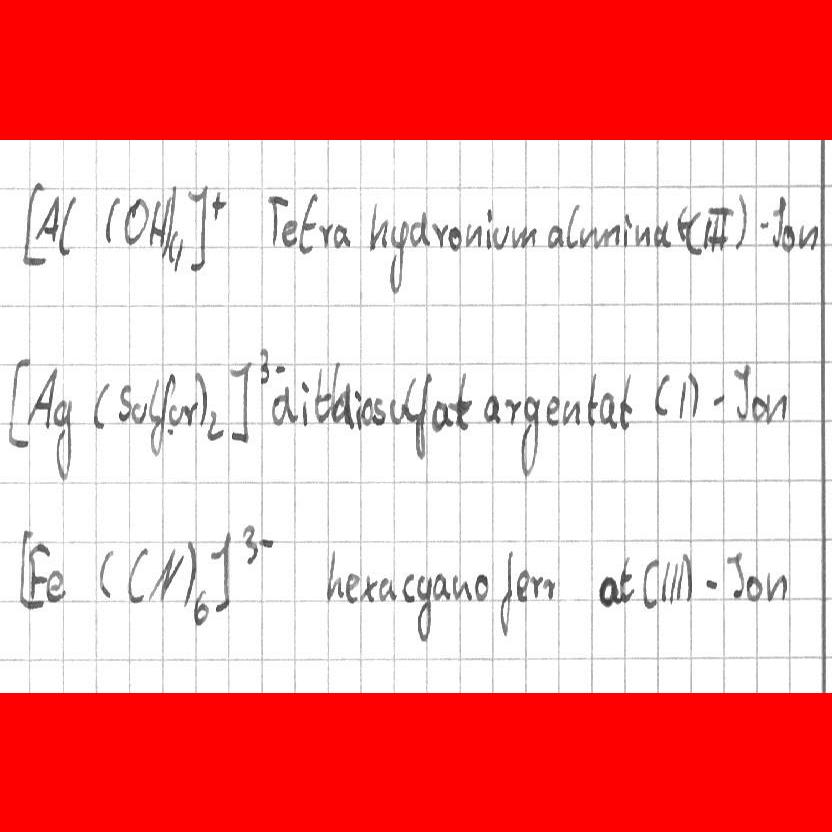Char: (3, 356, 31, 452), (184, 184, 212, 275), (19, 176, 45, 270), (227, 357, 252, 443), (148, 545, 184, 604), (26, 366, 57, 430), (50, 397, 73, 483), (387, 217, 411, 299), (519, 393, 541, 479), (210, 530, 233, 611), (125, 545, 150, 607), (414, 373, 432, 458), (497, 548, 514, 637), (26, 540, 50, 602), (120, 195, 150, 244), (412, 572, 433, 642), (58, 193, 80, 257), (297, 193, 319, 257), (310, 364, 331, 424), (577, 222, 621, 250), (708, 205, 733, 254), (34, 193, 60, 240), (148, 194, 170, 249), (270, 383, 297, 427), (732, 191, 751, 253), (18, 526, 32, 610), (449, 371, 468, 432), (323, 547, 344, 602), (366, 200, 388, 252), (733, 361, 751, 422), (180, 540, 196, 608), (266, 193, 285, 250), (640, 555, 660, 609), (725, 550, 745, 603), (408, 208, 434, 248), (90, 379, 110, 431), (617, 553, 637, 604), (331, 381, 354, 425), (651, 371, 671, 420), (194, 368, 209, 431), (102, 193, 121, 242), (685, 209, 703, 257), (764, 569, 788, 604), (43, 567, 64, 605), (166, 225, 184, 269), (192, 587, 212, 626), (240, 524, 259, 565), (771, 194, 785, 249), (98, 548, 113, 599), (619, 369, 631, 431), (147, 377, 163, 423), (429, 399, 450, 434), (682, 552, 696, 604), (599, 390, 617, 430), (510, 224, 537, 250), (585, 372, 598, 426), (482, 392, 503, 425), (763, 393, 786, 423), (750, 392, 771, 424), (278, 215, 300, 245), (597, 574, 617, 607), (404, 375, 418, 422), (565, 202, 579, 248), (115, 384, 131, 424), (204, 409, 224, 441), (450, 572, 472, 601), (432, 571, 452, 602), (429, 221, 450, 250), (797, 222, 818, 251), (209, 188, 228, 220), (744, 572, 764, 602), (358, 573, 378, 602), (344, 570, 361, 604), (257, 345, 271, 386), (377, 576, 399, 602), (652, 219, 671, 249), (463, 220, 483, 248), (544, 393, 560, 427), (562, 398, 581, 426), (659, 558, 671, 602), (514, 567, 529, 602), (130, 398, 148, 427), (666, 561, 678, 604), (333, 222, 352, 249), (687, 371, 698, 417), (179, 400, 198, 426), (492, 223, 509, 252), (546, 222, 564, 249), (473, 571, 489, 601), (387, 396, 404, 424), (504, 397, 521, 425), (779, 224, 795, 253), (370, 396, 386, 425), (674, 560, 685, 602), (317, 222, 333, 249), (622, 211, 633, 249), (677, 379, 687, 420), (484, 206, 493, 251), (540, 576, 556, 601), (447, 224, 462, 250), (635, 222, 650, 248), (360, 396, 373, 426), (167, 402, 183, 426), (402, 570, 414, 602), (354, 389, 363, 431), (528, 574, 542, 601), (301, 381, 308, 428), (703, 576, 719, 592), (710, 390, 724, 407), (258, 537, 274, 550), (274, 362, 287, 376), (757, 219, 771, 231)
